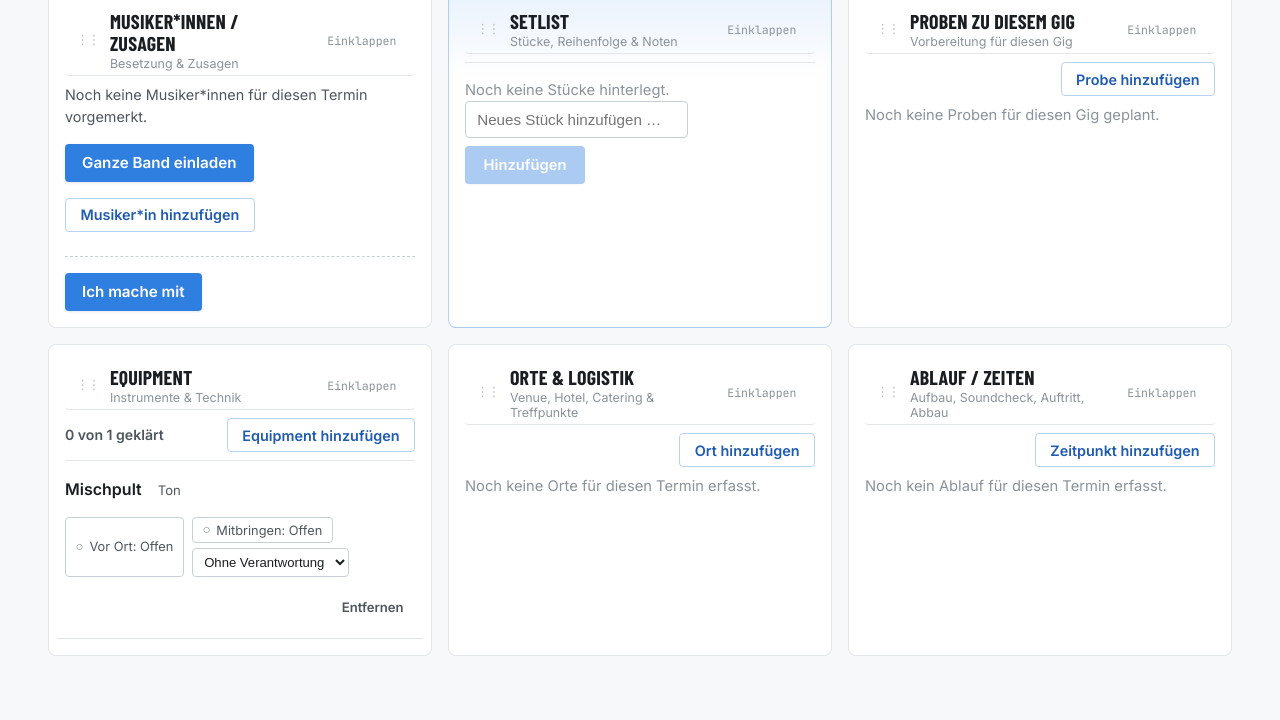
Test: EventDetailComponent › should toggle a requirement status via PUT
The width and height of the screenshot is (1280, 720).
(page scrolled)
Click the button with class "eq__chip" showing "○ Vor Ort: Offen" at (124, 547), box 65,517 -> 184,577
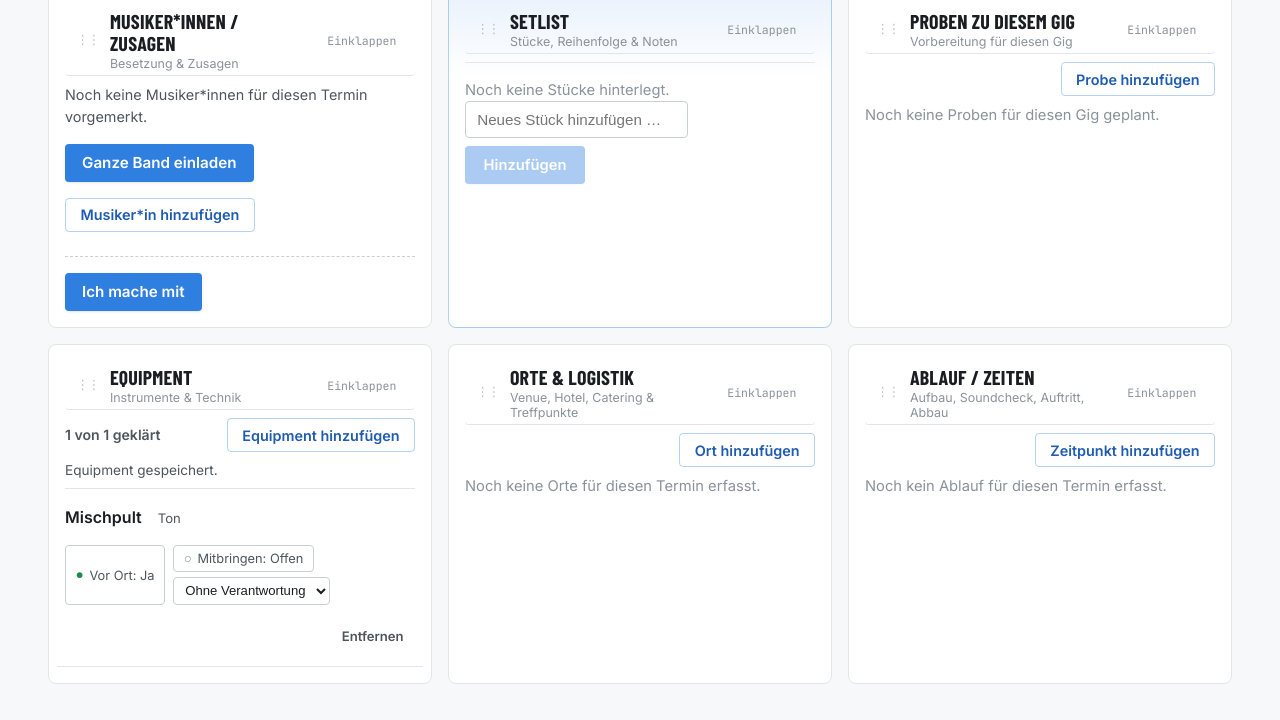
Check: the text "Vor Ort: Ja" is shown, box 65,545 -> 165,605
Check: the text "Equipment gespeichert." is shown, box 65,462 -> 218,478
